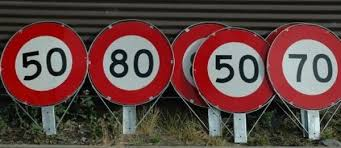sp50: (200, 24, 276, 107), (8, 32, 84, 98)
sp70: (275, 19, 339, 105)
sp80: (94, 24, 171, 102)
